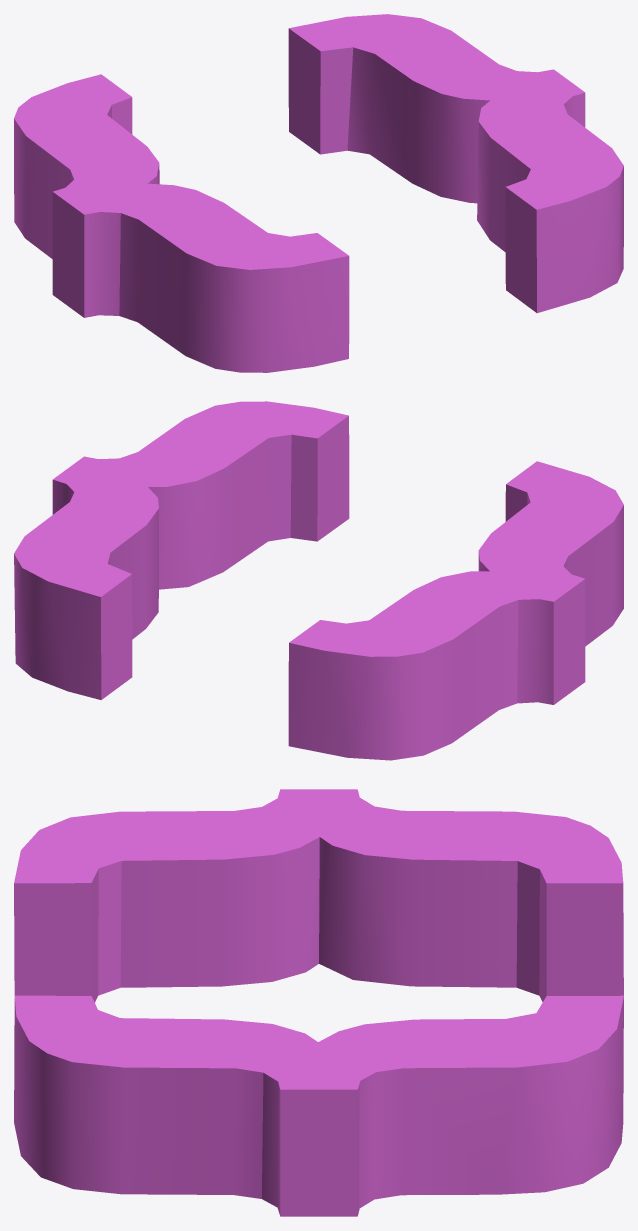
The model's file is IconBracket.glb.
The picture shows the model from 3 angles, top to bottom: view 1: azimuth 30°, elevation 25°; view 2: azimuth 150°, elevation 25°; view 3: azimuth 270°, elevation 25°; orthographic projection. The views are drawn at different scales.
Parts seen in each view (by area): view 1: IconBracket; view 2: IconBracket; view 3: IconBracket.
Part boxes in pixels (x1,y1,x2,y2): IconBracket: (14, 14, 623, 372); IconBracket: (14, 401, 623, 760); IconBracket: (14, 789, 623, 1216).
Bounding box in the file's own units: 1.68 × 0.3311 × 1.44.
